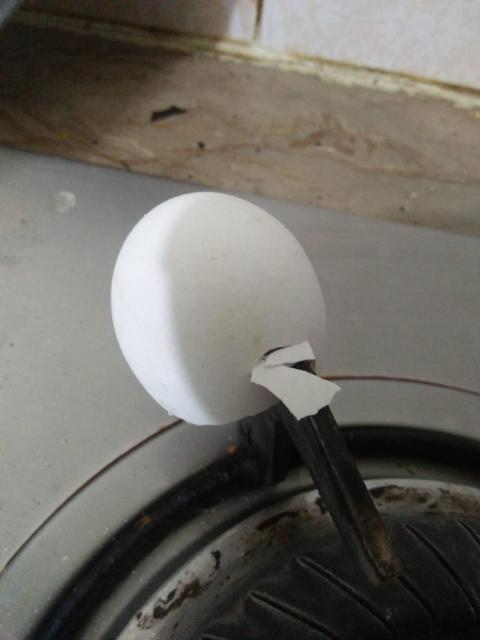Roto: (113, 190, 341, 429)
